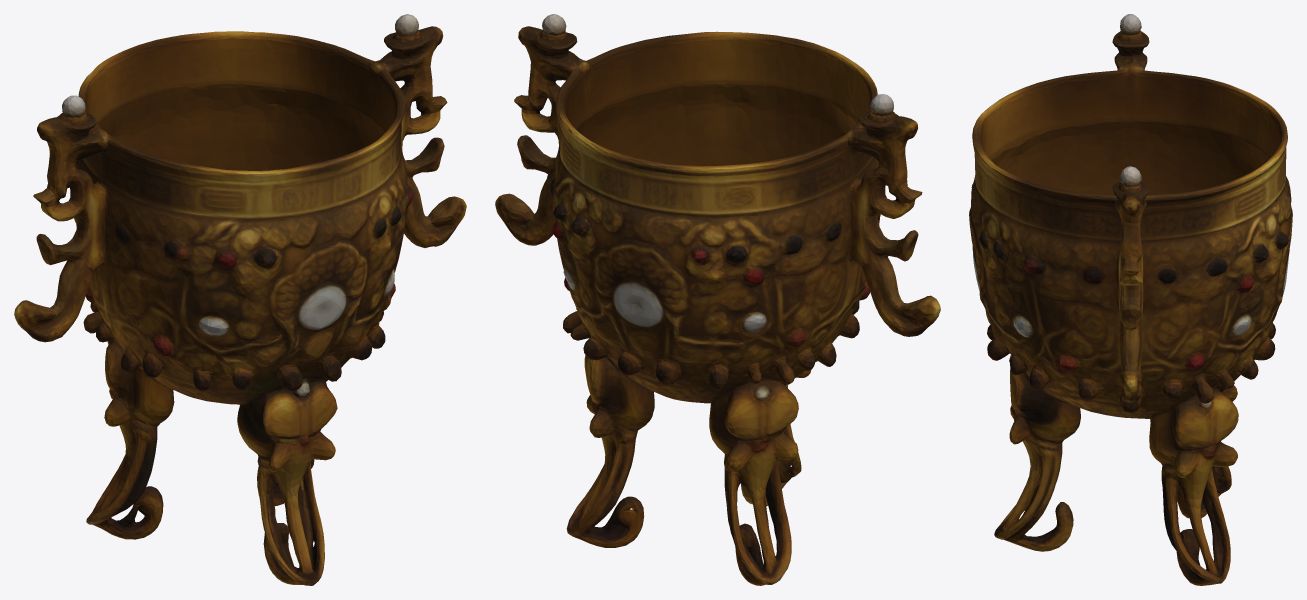
Rendered from Golden.glb.
3 views of the same model, side by side, from view 1: azimuth 30°, elevation 25°; view 2: azimuth 150°, elevation 25°; view 3: azimuth 270°, elevation 25° (orthographic). The views are drawn at different scales.
Visible parts, largest first — view 1: world; view 2: world; view 3: world.
Part boxes in pixels (x1,y1,x2,y2): world: (14,14,466,585); world: (495,14,940,585); world: (969,14,1292,585).
Bounding box in the file's own units: 0.9615 × 0.9994 × 0.6404.
Materials: 1 (1 with a texture image).
